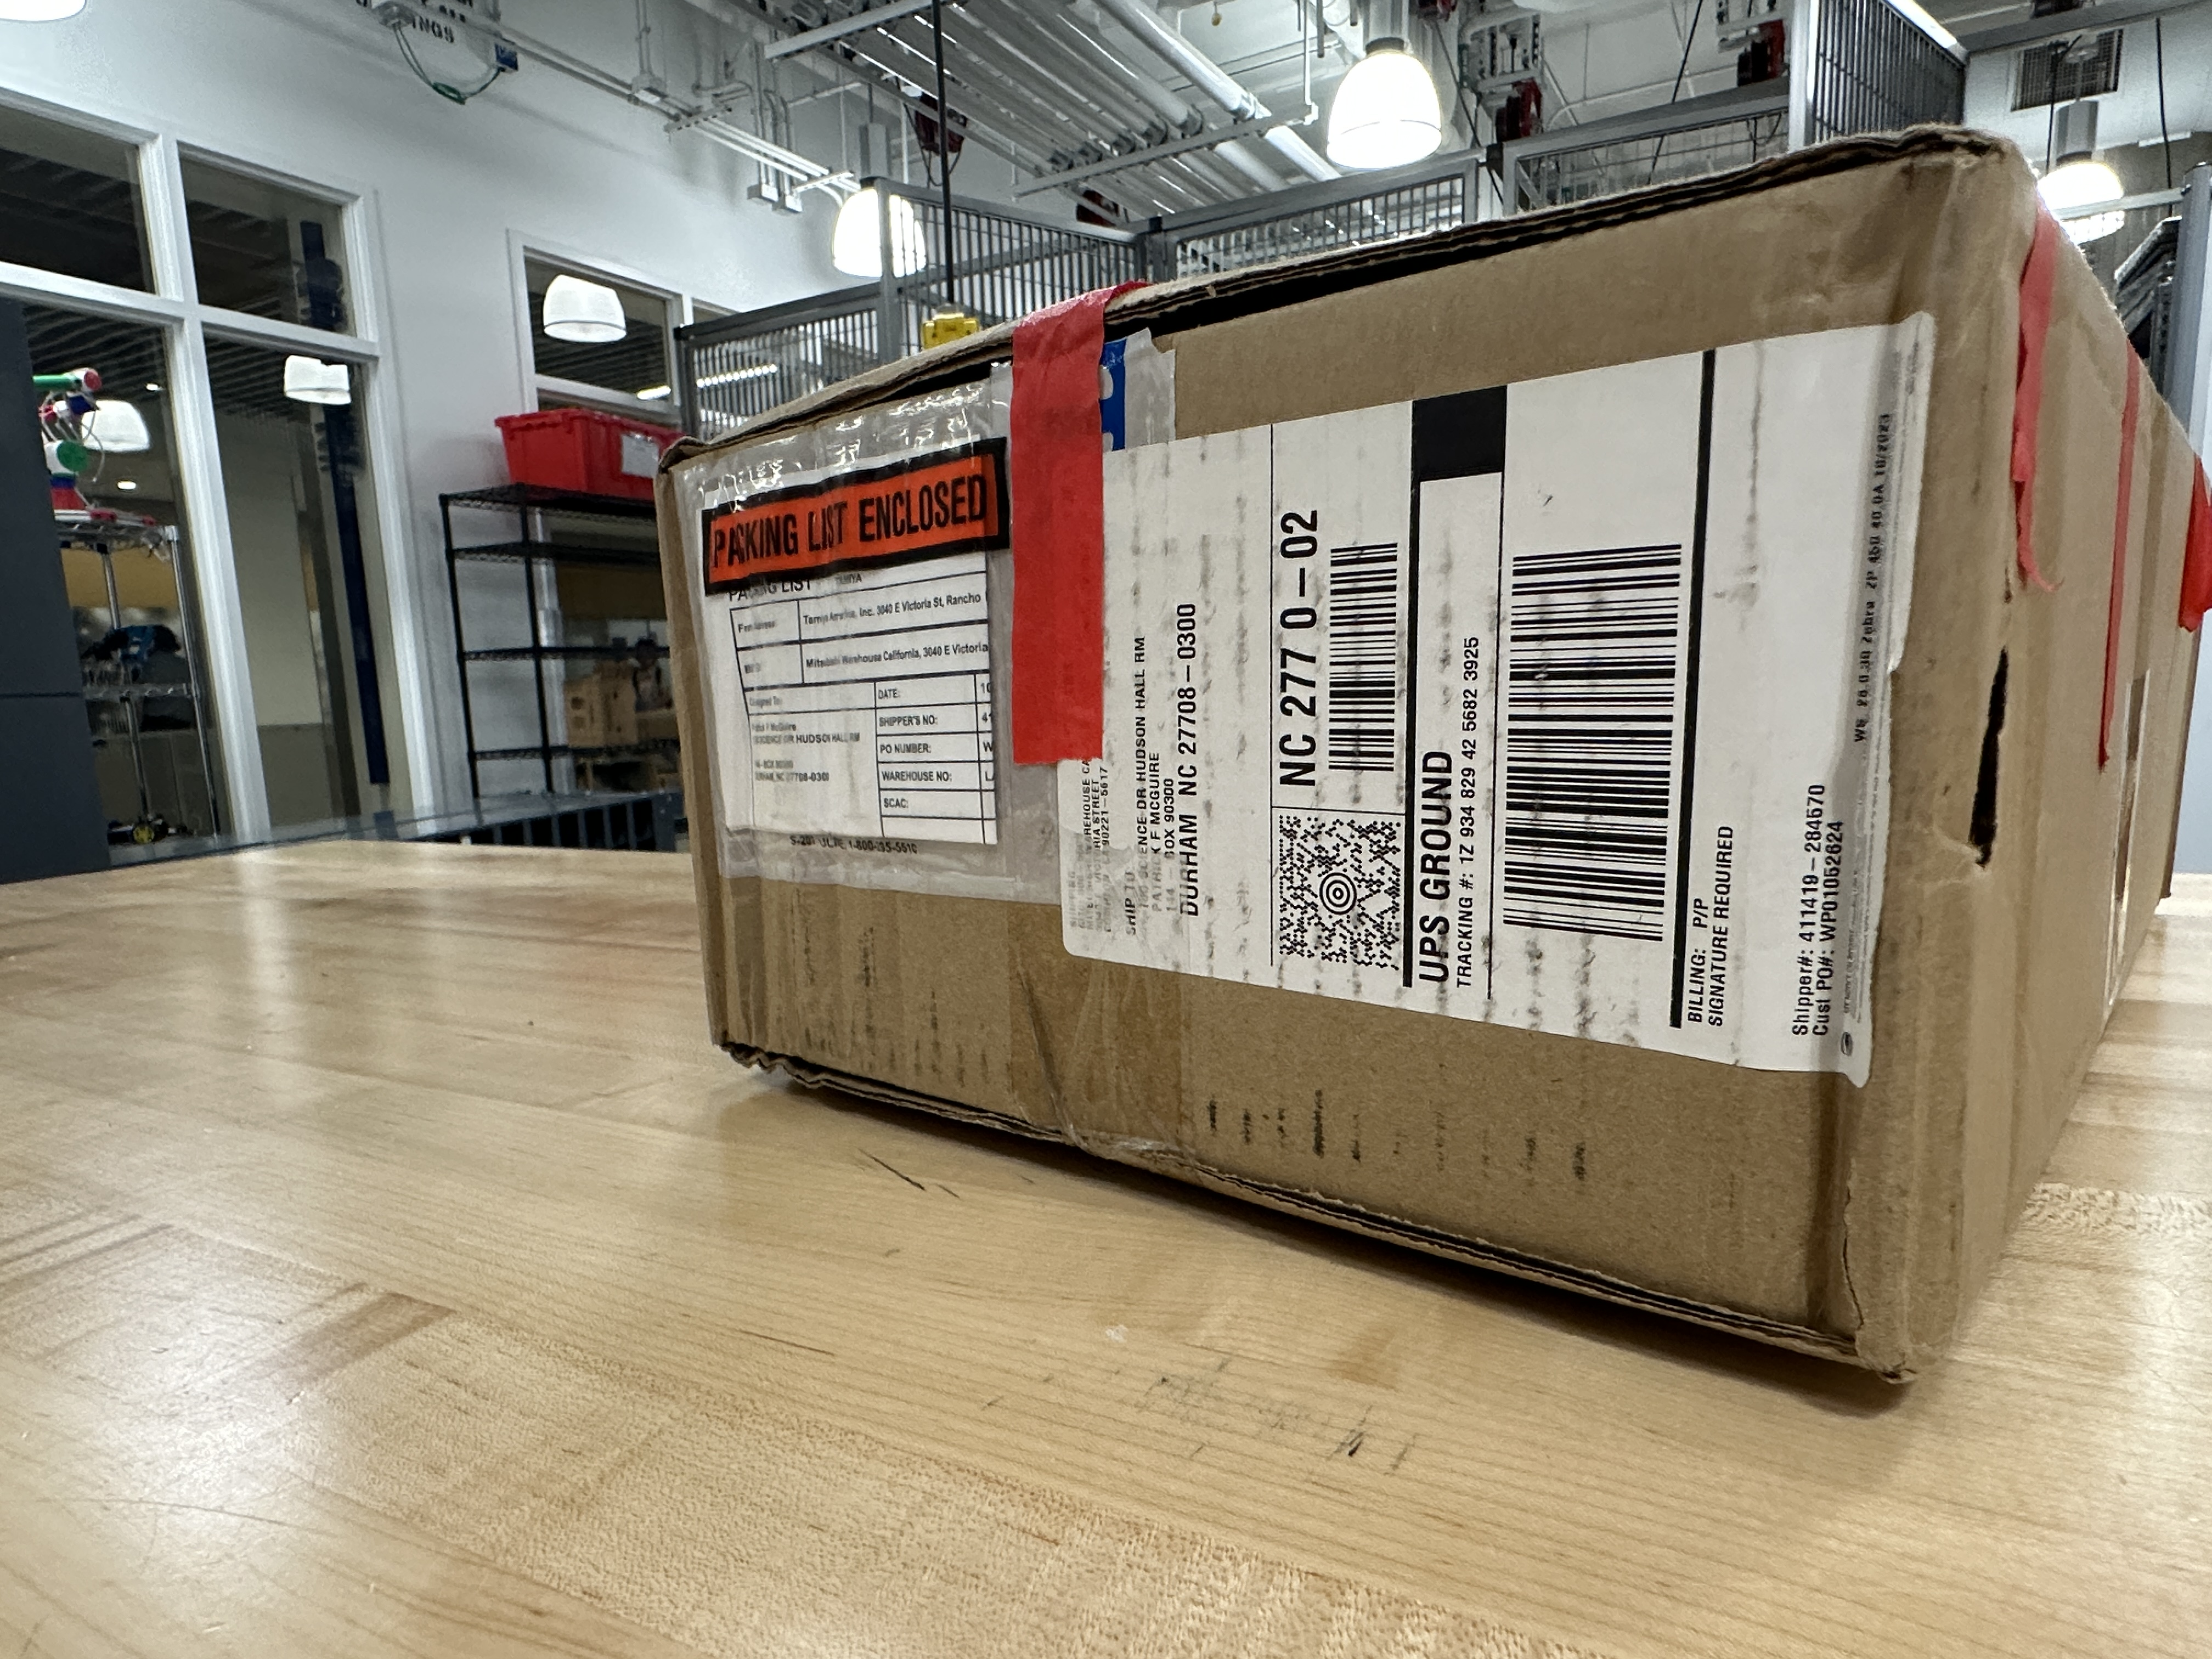Box_Obstacle: (637, 124, 2202, 1415)
